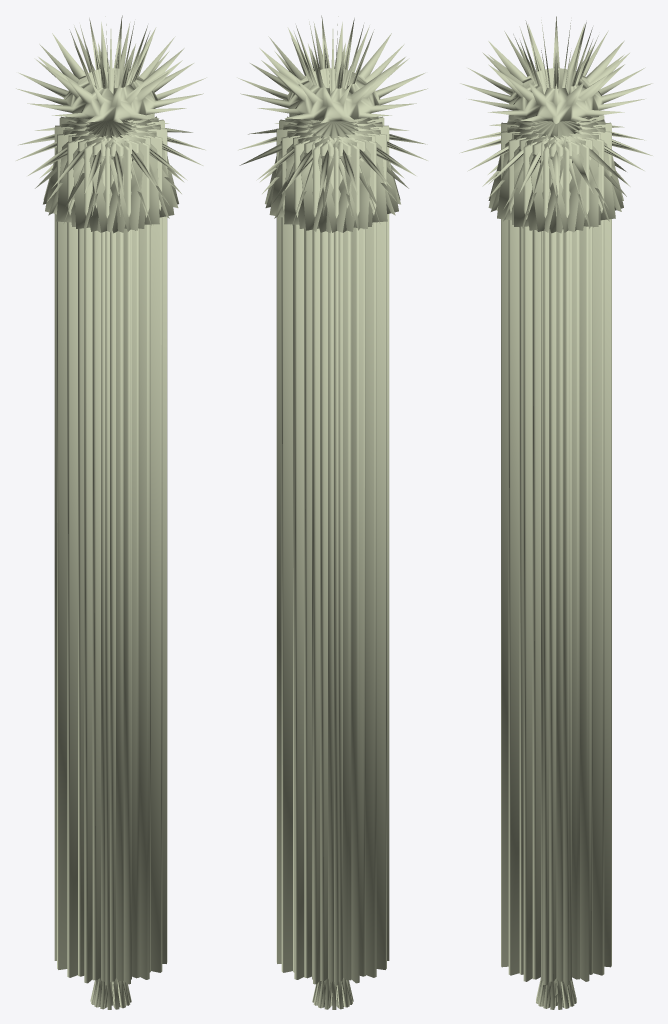
Rendered from tower.obj.
The picture shows the model from 3 angles, left to right: view 1: azimuth 30°, elevation 25°; view 2: azimuth 150°, elevation 25°; view 3: azimuth 270°, elevation 25°; orthographic projection.
Parts seen in each view (by area): view 1: sphere1; view 2: sphere1; view 3: sphere1.
Part boxes in pixels (box(x1,y1,x2,y2)): sphere1: box(16, 15, 206, 1009); sphere1: box(237, 15, 427, 1009); sphere1: box(459, 16, 652, 1009).
Bounding box in the file's own units: 3.74 × 20.66 × 3.74.
